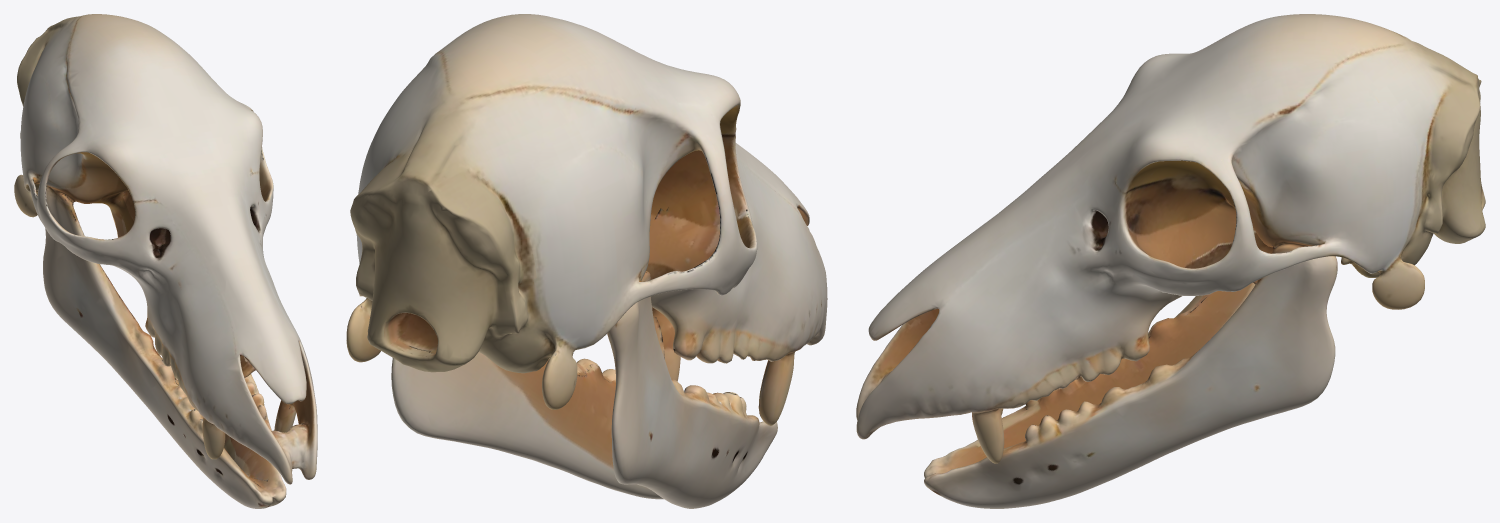
Rendered from horse-skull.glb.
3 views of the same model, side by side, from view 1: azimuth 30°, elevation 25°; view 2: azimuth 150°, elevation 25°; view 3: azimuth 270°, elevation 25° (orthographic). The views are drawn at different scales.
Parts seen in each view (by area): view 1: model; view 2: model; view 3: model.
Part boxes in pixels (box(x1,y1,x2,y2)): model: box(14, 14, 317, 508); model: box(346, 14, 827, 508); model: box(856, 14, 1485, 508).
Bounding box in the file's own units: 0.9726 × 1.6 × 1.9.
Materials: 1 (1 with a texture image).
